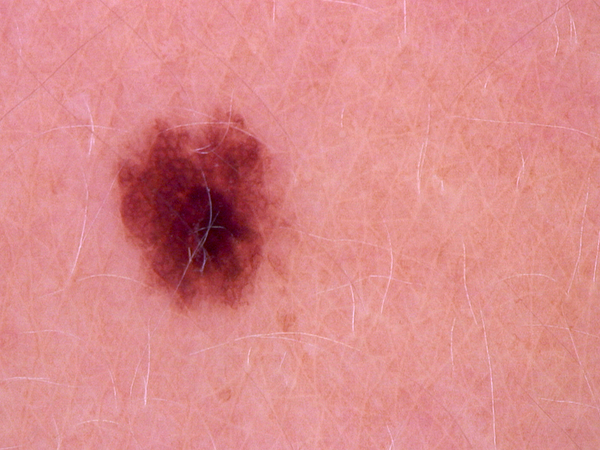Detected Lesion: (115, 103, 282, 323)
